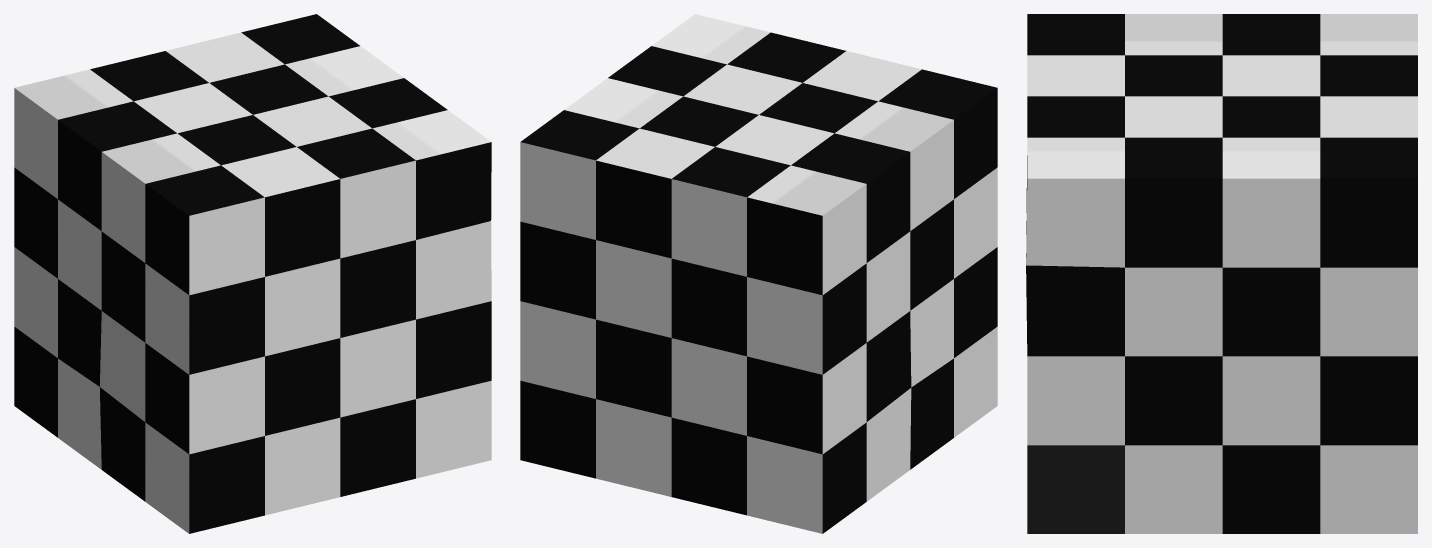
The model's file is  meta.fbx.
3 views of the same model, side by side, from view 1: azimuth 30°, elevation 25°; view 2: azimuth 150°, elevation 25°; view 3: azimuth 270°, elevation 25° (orthographic). The views are drawn at different scales.
Parts seen in each view (by area): view 1: Meta; view 2: Meta; view 3: Meta.
Boxes of the visible parts, <box> form: Meta: <box>14,14,491,533</box>; Meta: <box>520,14,997,533</box>; Meta: <box>1026,14,1417,533</box>.
Bounding box in the file's own units: 500 × 500 × 500.
1 material, 1 textured.
